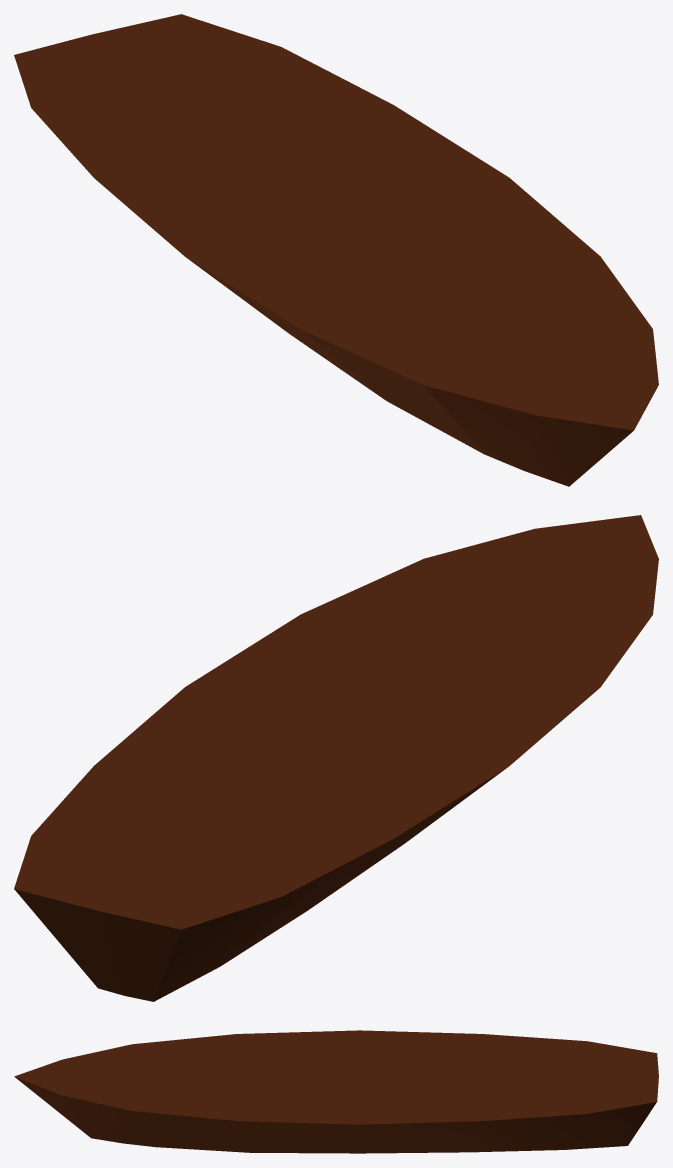
Rendered from Boat-convexhull.fbx.
The picture shows the model from 3 angles, top to bottom: view 1: azimuth 30°, elevation 25°; view 2: azimuth 150°, elevation 25°; view 3: azimuth 270°, elevation 25°; orthographic projection. The views are drawn at different scales.
Parts seen in each view (by area): view 1: Circle; view 2: Circle; view 3: Circle.
Part boxes in pixels (x1,y1,x2,y2): Circle: [14, 14, 658, 486]; Circle: [14, 515, 658, 1001]; Circle: [14, 1030, 658, 1153].
Bounding box in the file's own units: 476 × 1377 × 146.
